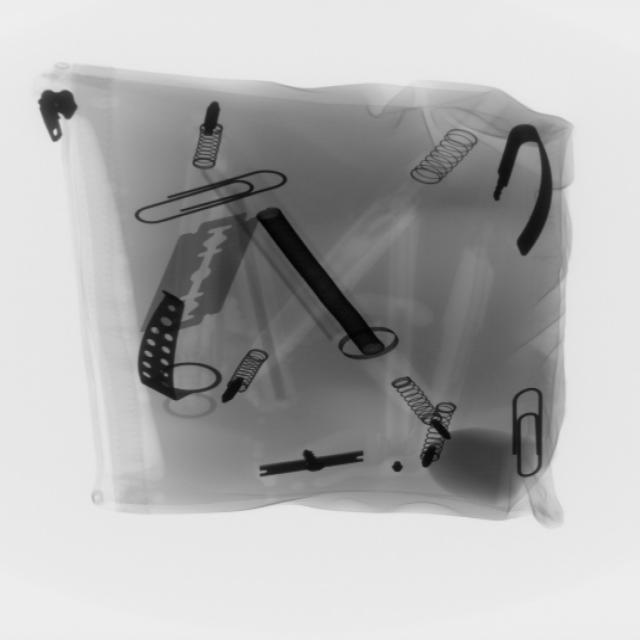BLADE: (152, 205, 260, 336)
